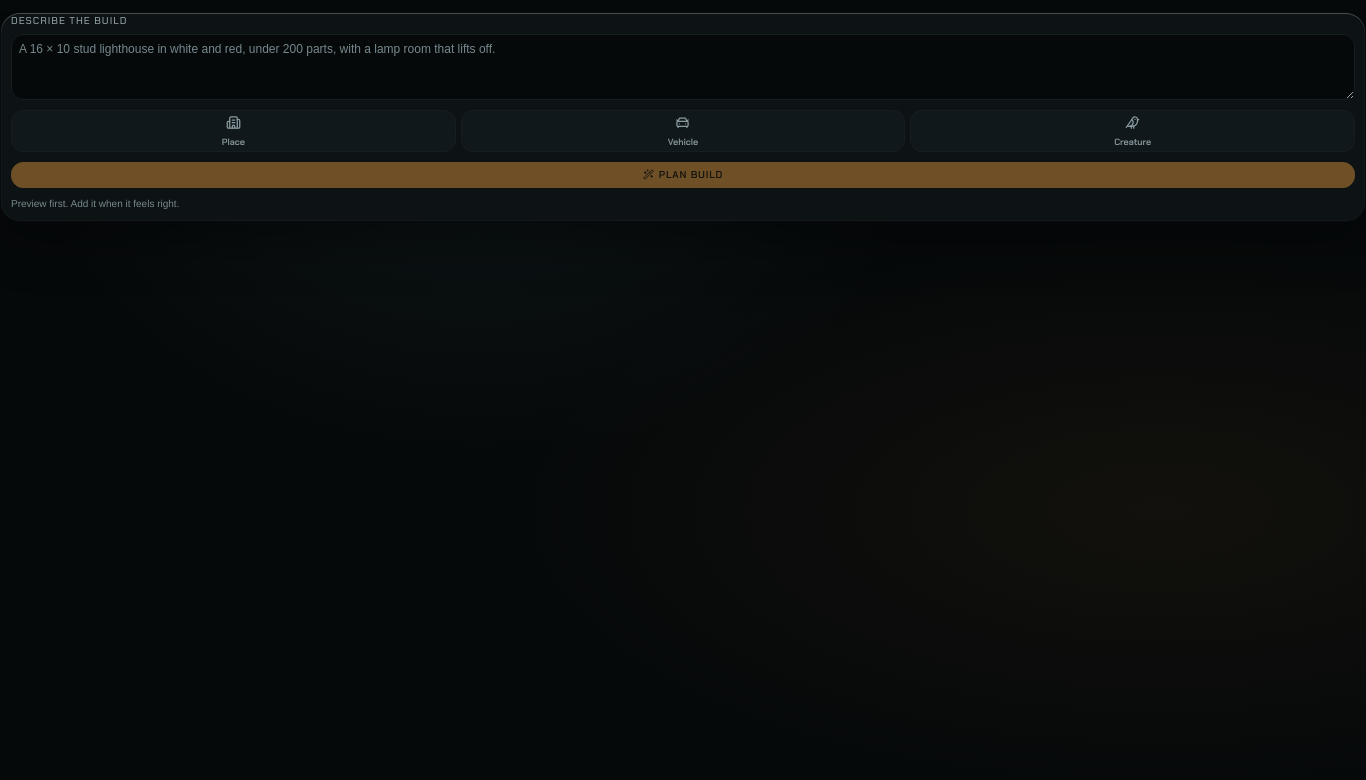
it: the empty state › turns a visual starter into an editable request
This screenshot has width=1366, height=780.
Click the button "Vehicle" at (683, 131), box [461,110,905,152]
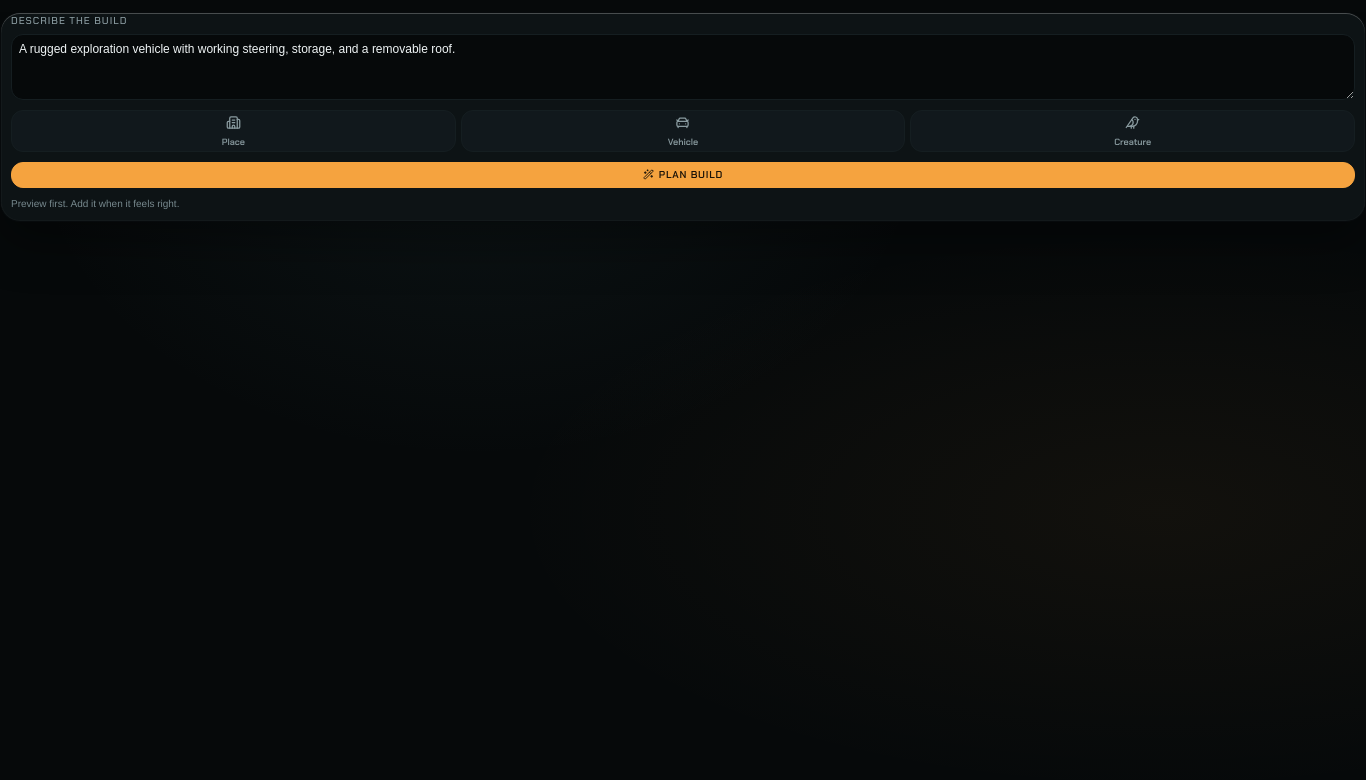
Expected: the text box named "What should be built" holds "A rugged exploration vehicle with working steering, storage, and a removable roof.", [11,34,1355,100]
Expected: the button with aria-label "Compile brief" is enabled, [11,162,1355,188]
